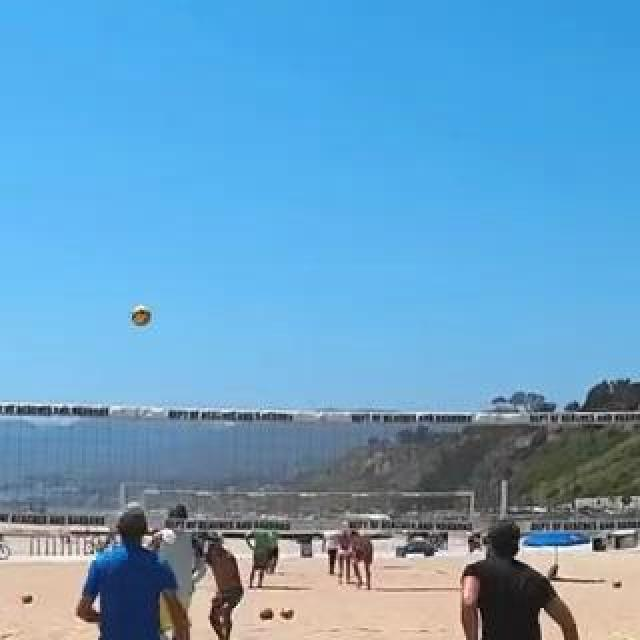volleyball: (131, 308, 151, 326), (260, 607, 274, 621), (281, 607, 295, 621), (22, 593, 34, 605), (612, 579, 622, 589)
